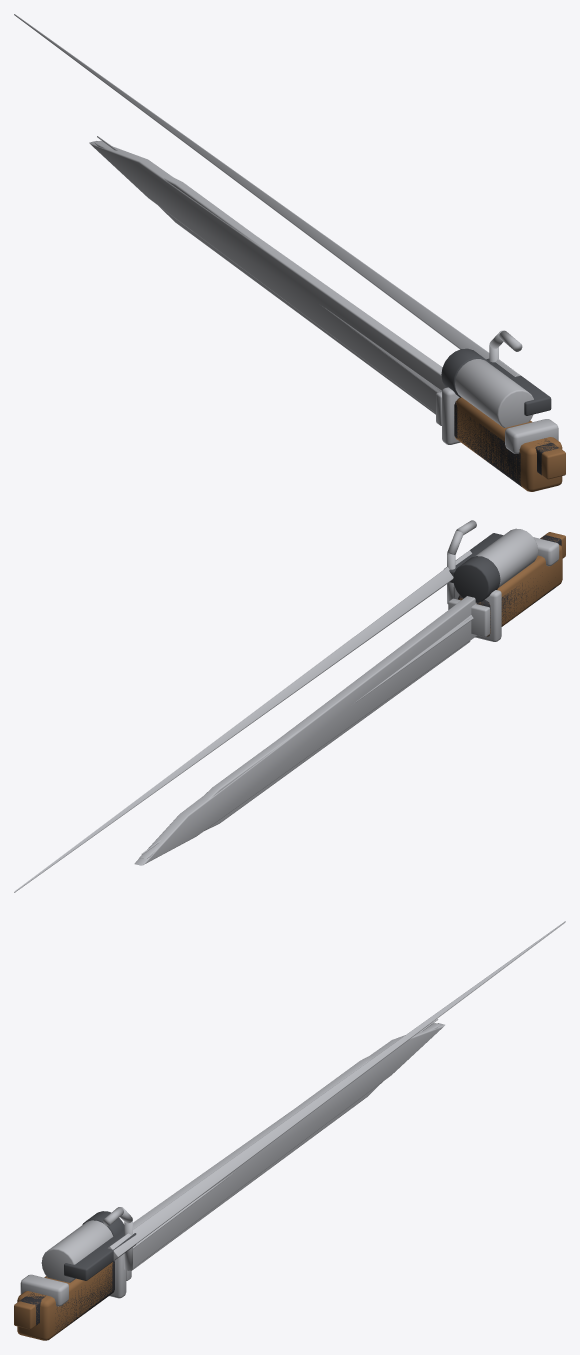
Rendered from bayonets.glb.
3 renders of one model, top to bottom at view 1: azimuth 30°, elevation 25°; view 2: azimuth 150°, elevation 25°; view 3: azimuth 330°, elevation 25°, orthographic. The views are drawn at different scales.
Visible parts, largest first — view 1: ari_blade, rsc_spike, ari_grip, mosin_socket, m03_blade, gar_grip, ari_ring, mosin_arm, gar_ring, m03_tang, ari_guard, kar_grip; view 2: ari_blade, rsc_spike, mosin_socket, m03_blade, ari_grip, m03_grip, gar_ring, ari_guard, gar_guard, ari_ring, mas_spike; view 3: ari_blade, rsc_spike, ari_grip, mosin_socket, m03_blade, mosin_arm, ari_ring, m03_tang, gar_grip.
Part boxes in pixels (x1,y1,x2,y2): ari_blade: (89,141,445,412); rsc_spike: (14,14,520,376); ari_grip: (456,397,562,491); mosin_socket: (455,359,533,427); m03_blade: (94,140,435,414); gar_grip: (454,401,516,483); ari_ring: (505,419,558,453); mosin_arm: (486,358,551,415); gar_ring: (441,348,490,397); m03_tang: (536,444,565,479); ari_guard: (442,387,460,444); kar_grip: (454,402,521,486); ari_blade: (134,596,476,865); rsc_spike: (14,550,471,892); mosin_socket: (475,528,538,587); m03_blade: (139,641,470,858); ari_grip: (497,544,562,626); m03_grip: (458,554,561,636); gar_ring: (453,556,500,602); ari_guard: (453,586,501,641); gar_guard: (448,598,489,637); ari_ring: (533,537,559,566); mas_spike: (141,617,473,854); ari_blade: (133,1023,444,1268); rsc_spike: (108,921,565,1260); ari_grip: (17,1262,112,1340); mosin_socket: (41,1220,113,1282); m03_blade: (131,1023,440,1270); mosin_arm: (64,1230,136,1280); ari_ring: (20,1274,68,1306); m03_tang: (14,1301,40,1329); gar_grip: (59,1261,114,1331).
Size of the model in its own units: 0.0387 by 0.0631 by 0.613.
